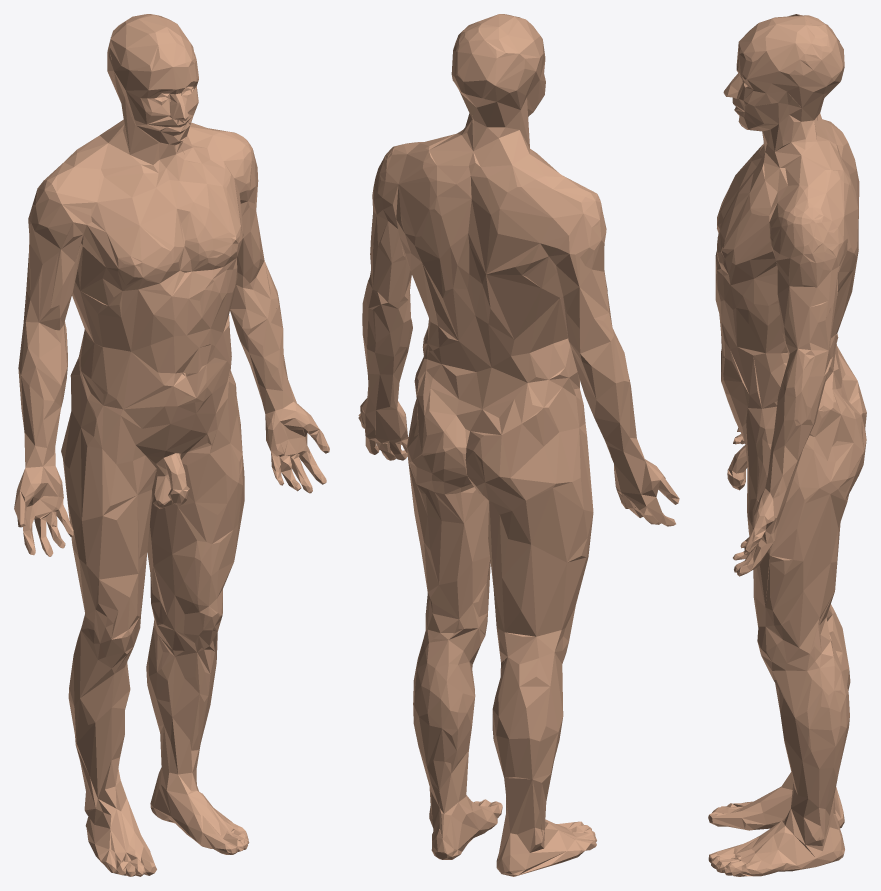
File: patient-skin.glb
The picture shows the model from 3 angles, left to right: view 1: azimuth 30°, elevation 25°; view 2: azimuth 150°, elevation 25°; view 3: azimuth 270°, elevation 25°; orthographic projection.
Parts seen in each view (by area): view 1: geometry_0; view 2: geometry_0; view 3: geometry_0.
Boxes of the visible parts, x1=… form: geometry_0: x1=14, y1=14, x2=329, y2=876; geometry_0: x1=358, y1=14, x2=679, y2=876; geometry_0: x1=708, y1=14, x2=866, y2=876.
Bounding box in the file's own units: 0.6585 × 1.66 × 0.2882.
